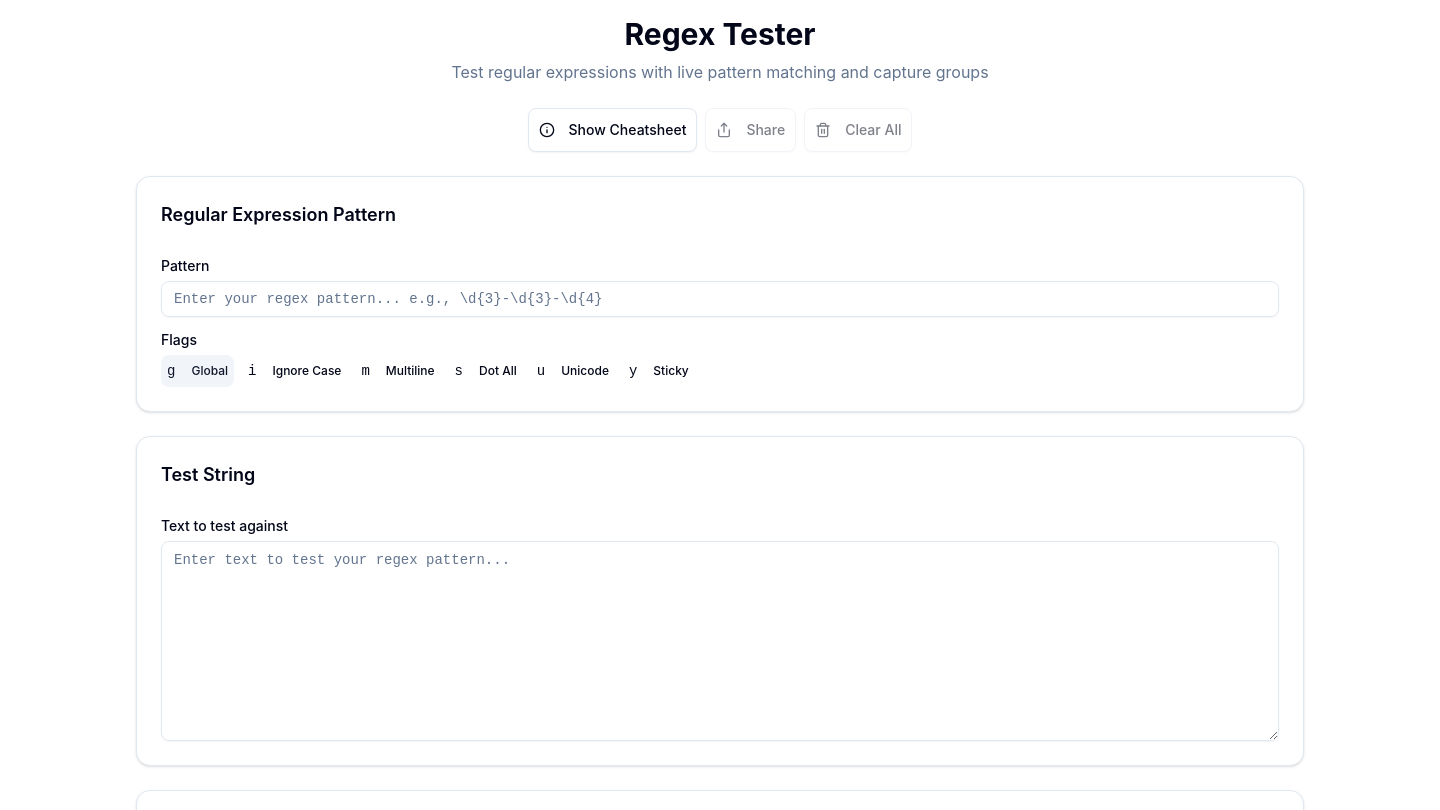
RegexTester › displays matches when valid pattern and text are provided
The width and height of the screenshot is (1440, 810).
In the field labelled "Pattern": (720, 299) [161,281,1279,317], type "\\d+"
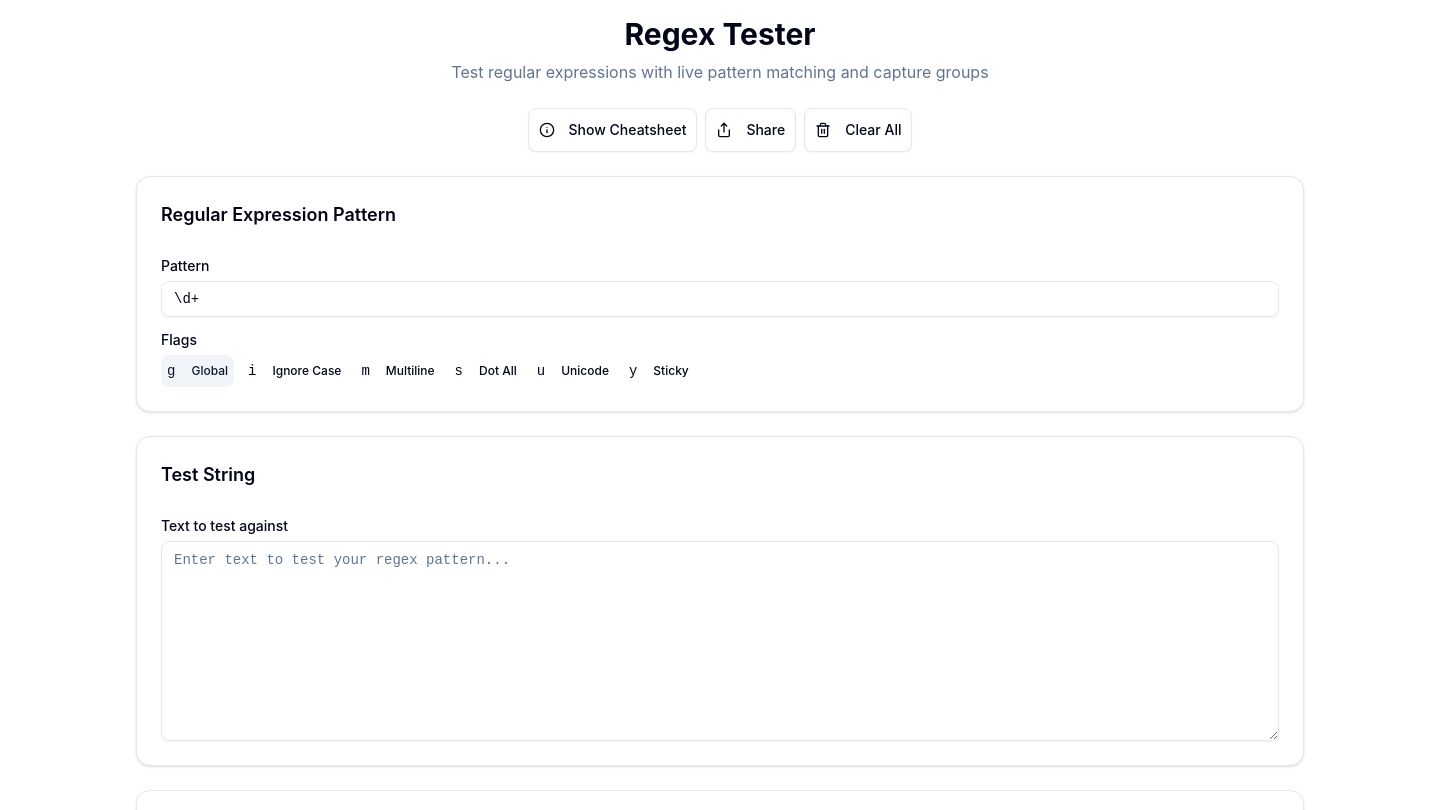
In the text box labelled "Text to test against": (720, 641) [161,541,1279,741], type "Test 123 and 456"
(page scrolled)
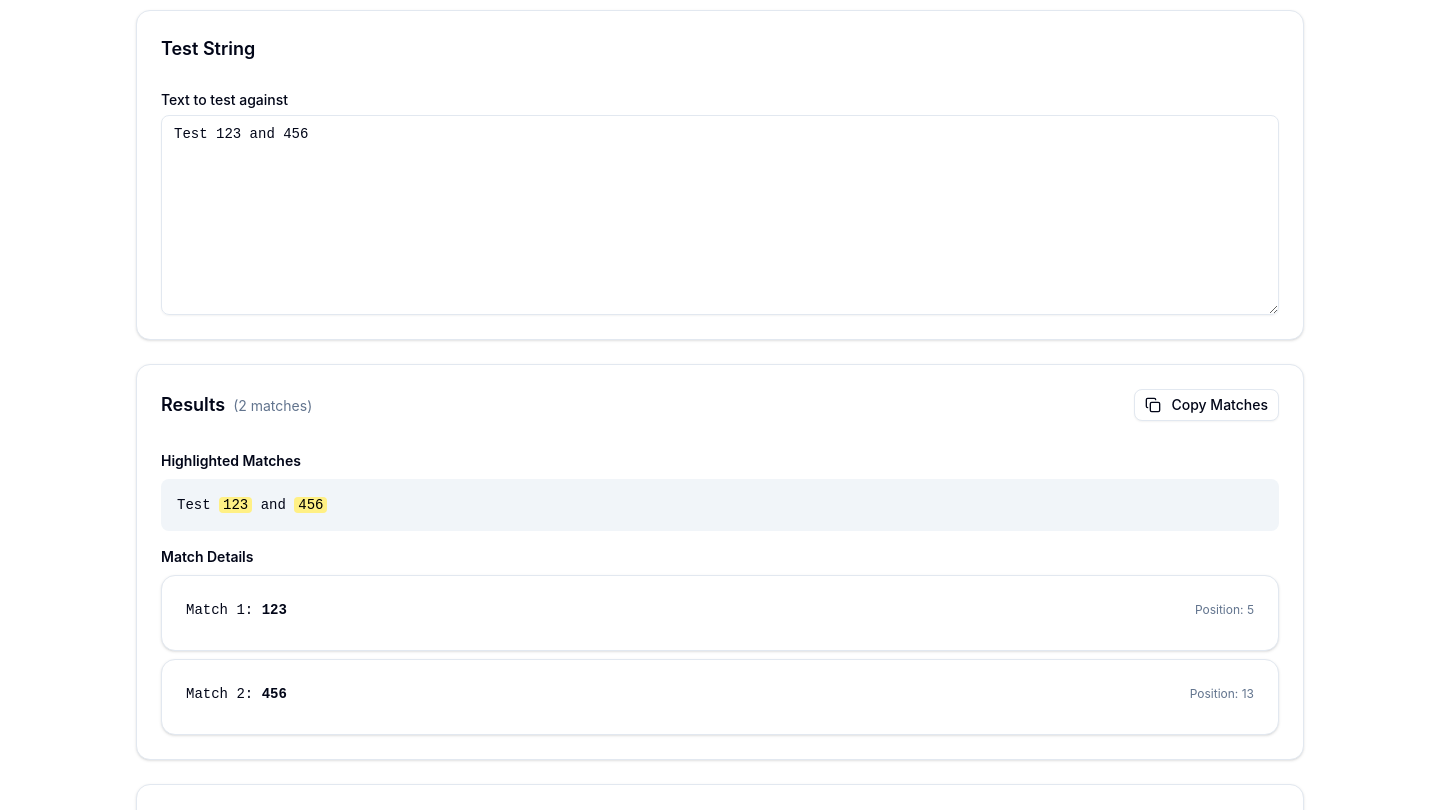
Now the text "(2 matches)" is shown, box [233,397,312,414]
